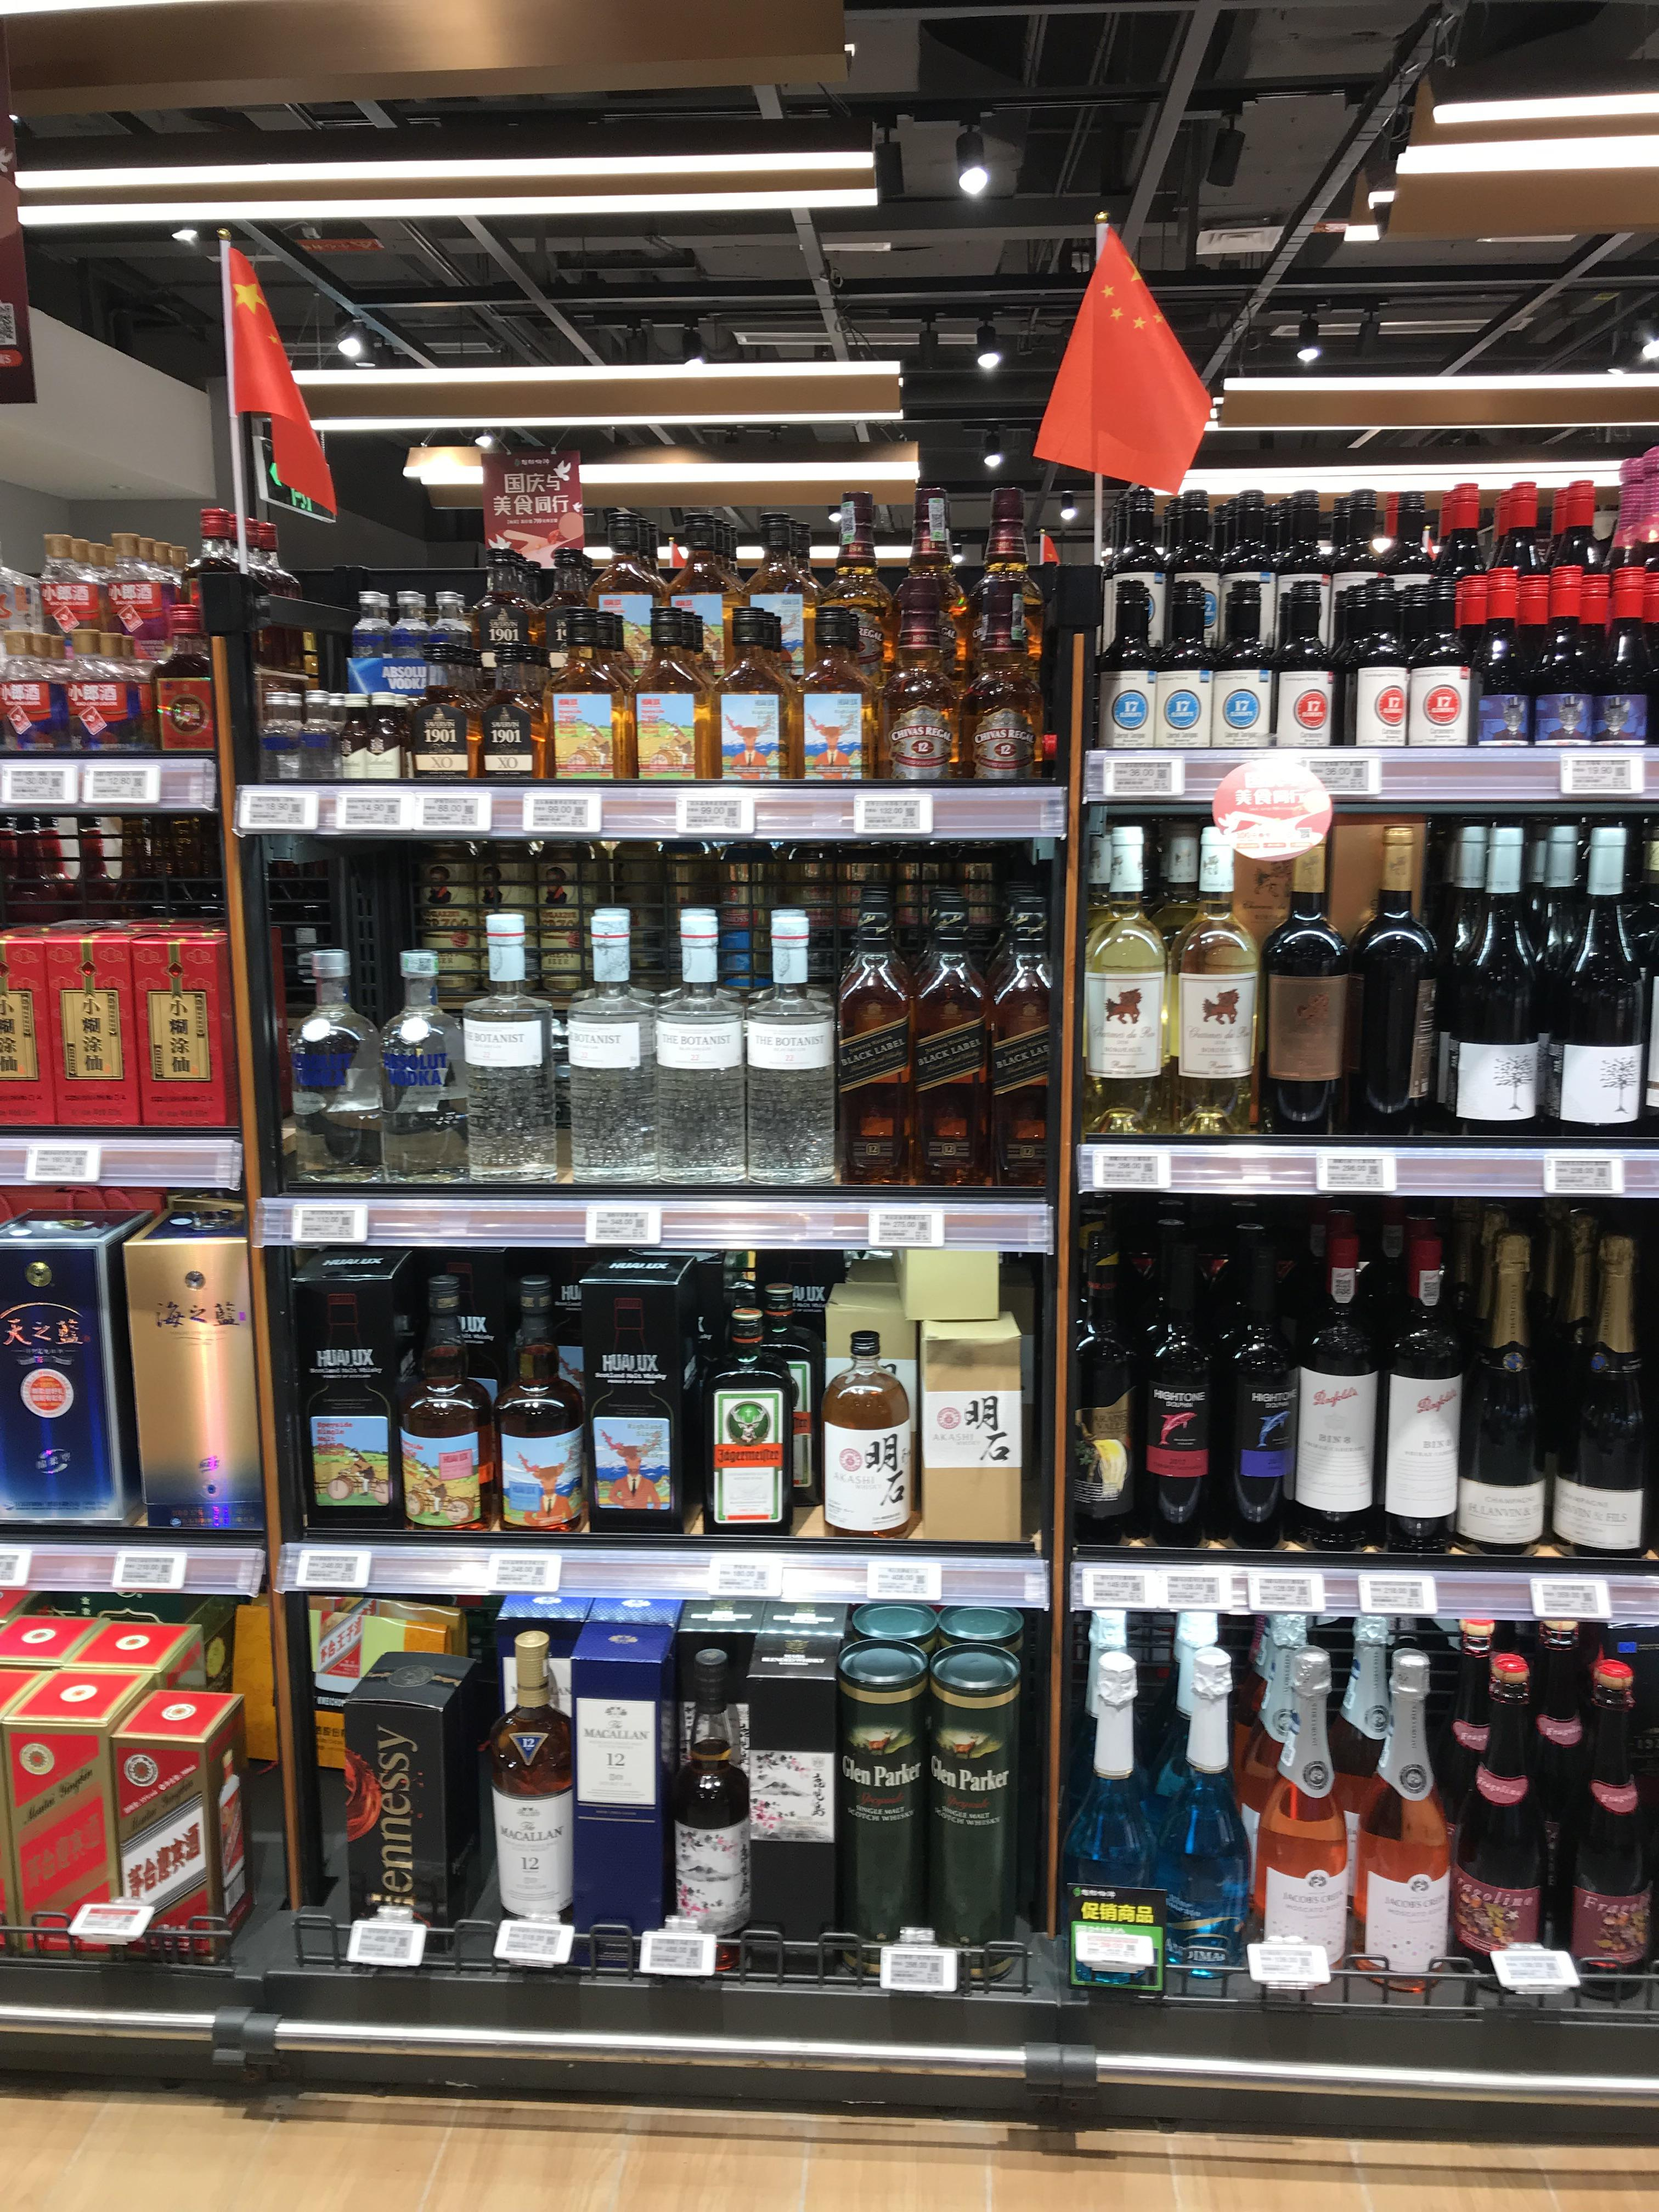bag: (120, 1202, 268, 1540), (814, 1270, 917, 1548), (911, 1310, 1028, 1541)
bottle: (1053, 1649, 1168, 2006), (1239, 1615, 1349, 1987), (742, 1620, 849, 1975), (488, 1632, 592, 1991), (924, 1646, 1025, 2013), (1345, 1649, 1450, 2001), (1333, 822, 1443, 1146), (1166, 1205, 1267, 1550), (1035, 1224, 1138, 1550), (831, 1632, 925, 1987), (1553, 1233, 1650, 1575), (1438, 829, 1542, 1146), (1546, 831, 1650, 1148), (1446, 1653, 1544, 1991), (289, 1244, 403, 1533), (1150, 1641, 1244, 1986), (1131, 1207, 1223, 1552), (901, 871, 997, 1198), (828, 859, 920, 1195), (1284, 1235, 1380, 1557), (1450, 1237, 1542, 1568), (1255, 838, 1352, 1148), (1373, 1242, 1466, 1562), (587, 1238, 681, 1545), (1075, 824, 1164, 1146), (1166, 831, 1258, 1141), (1570, 1665, 1654, 1994), (669, 1655, 755, 1973), (702, 1263, 791, 1554), (281, 942, 383, 1186), (570, 916, 657, 1190), (803, 496, 884, 789), (399, 1273, 486, 1541), (964, 500, 1044, 789), (1204, 493, 1281, 777), (746, 930, 828, 1193), (884, 509, 960, 789), (1328, 496, 1405, 777), (181, 503, 263, 765), (500, 1282, 580, 1545), (657, 920, 735, 1188), (462, 934, 544, 1188), (640, 516, 714, 792), (1154, 495, 1229, 770), (716, 535, 795, 792), (1094, 505, 1169, 773), (1267, 503, 1338, 782), (380, 949, 460, 1190), (1401, 503, 1473, 770), (1459, 486, 1527, 763), (1523, 488, 1591, 758), (558, 524, 626, 792), (228, 514, 303, 754), (1591, 495, 1654, 758), (490, 545, 547, 789), (5, 583, 61, 733), (49, 559, 103, 658)
box: (47, 1656, 244, 1958), (0, 1653, 138, 1958), (138, 932, 225, 1113), (52, 920, 129, 1108), (10, 920, 70, 1103)
bucket: (0, 1191, 138, 1548)
jar: (61, 655, 146, 759), (152, 641, 221, 766), (537, 827, 599, 958), (418, 627, 469, 786), (329, 690, 403, 787), (416, 833, 484, 932), (153, 803, 209, 913), (115, 556, 173, 650), (268, 691, 328, 782), (582, 899, 634, 998), (382, 589, 432, 688), (80, 806, 129, 907), (479, 907, 535, 991), (14, 810, 68, 895)
